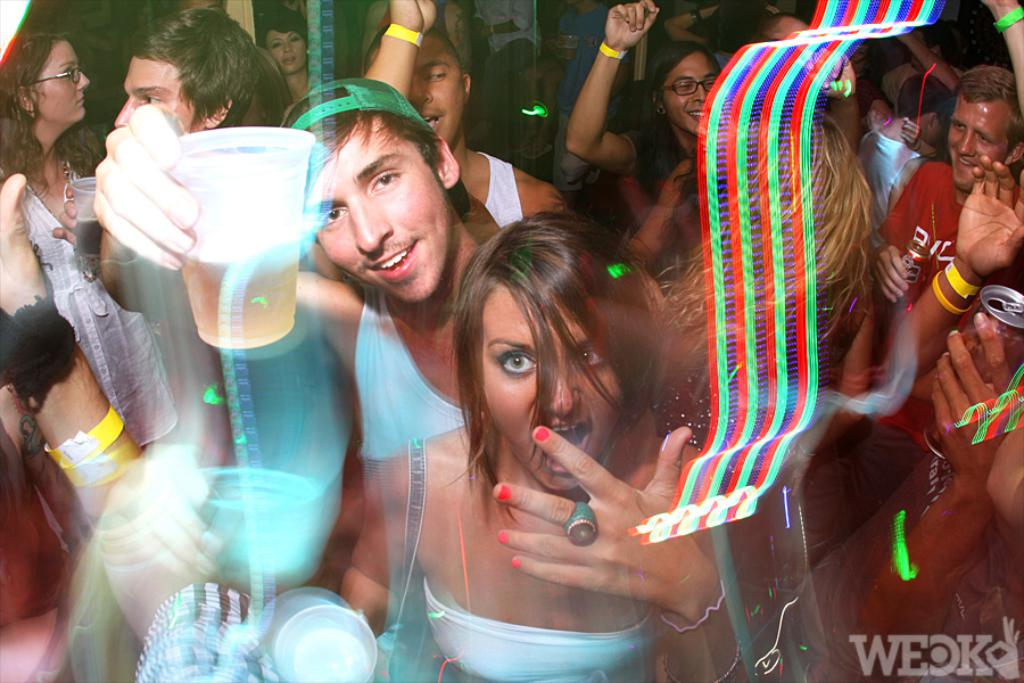Human_hand: (491, 426, 715, 618), (95, 446, 225, 583), (91, 104, 197, 268), (933, 314, 1011, 482), (955, 154, 1023, 277), (0, 173, 44, 314), (50, 187, 103, 257), (605, 0, 659, 50), (871, 246, 907, 304), (390, 0, 436, 30), (473, 25, 490, 40)
